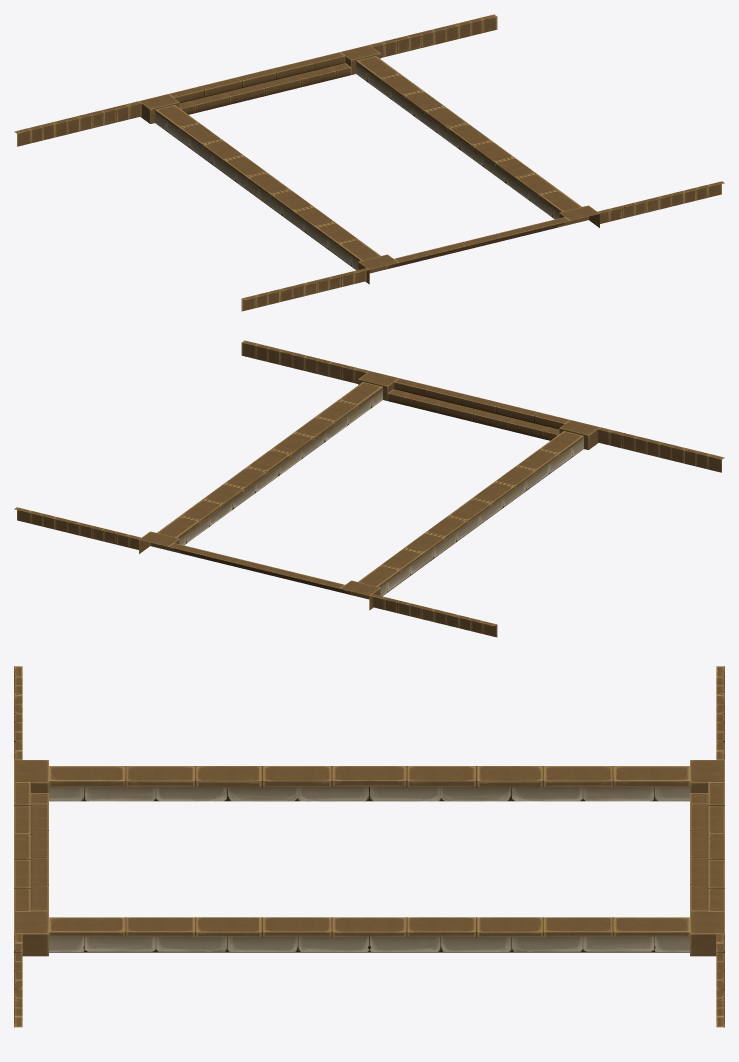
File: StairsAndWalls.fbx
3 renders of one model, top to bottom at view 1: azimuth 30°, elevation 25°; view 2: azimuth 150°, elevation 25°; view 3: azimuth 270°, elevation 25°, orthographic. The views are drawn at different scales.
Parts seen in each view (by area): view 1: StairsAndWalls_1; view 2: StairsAndWalls_1; view 3: StairsAndWalls_1.
Boxes of the visible parts, <box> form: StairsAndWalls_1: <box>14,14,724,311</box>; StairsAndWalls_1: <box>14,340,724,637</box>; StairsAndWalls_1: <box>14,666,724,1027</box>.
Size of the model in its own units: 303 by 8.85 by 252.
